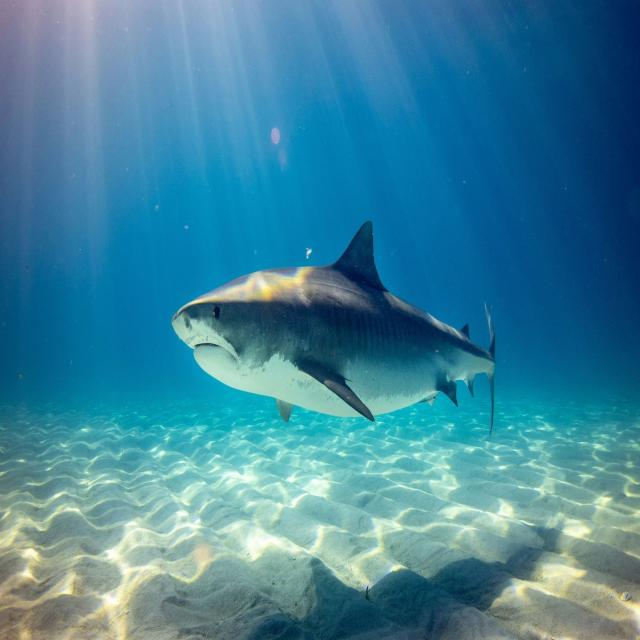shark: (172, 222, 495, 427)
